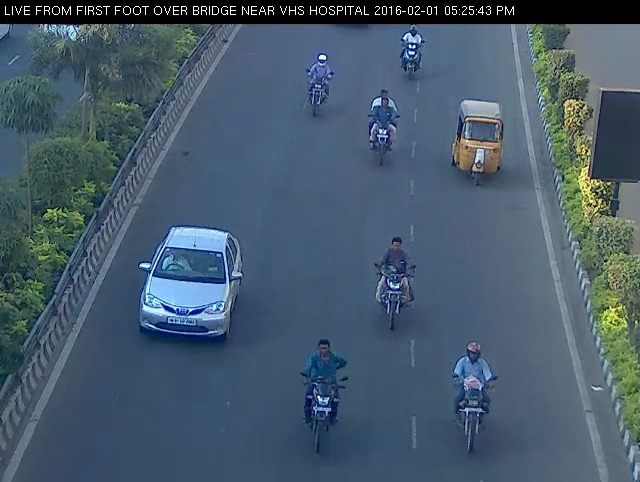Car: (129, 219, 252, 349), (438, 80, 519, 199)
Person: (283, 328, 356, 459), (438, 326, 508, 462), (360, 225, 427, 341), (358, 78, 405, 172), (298, 42, 340, 129), (396, 22, 426, 84)
